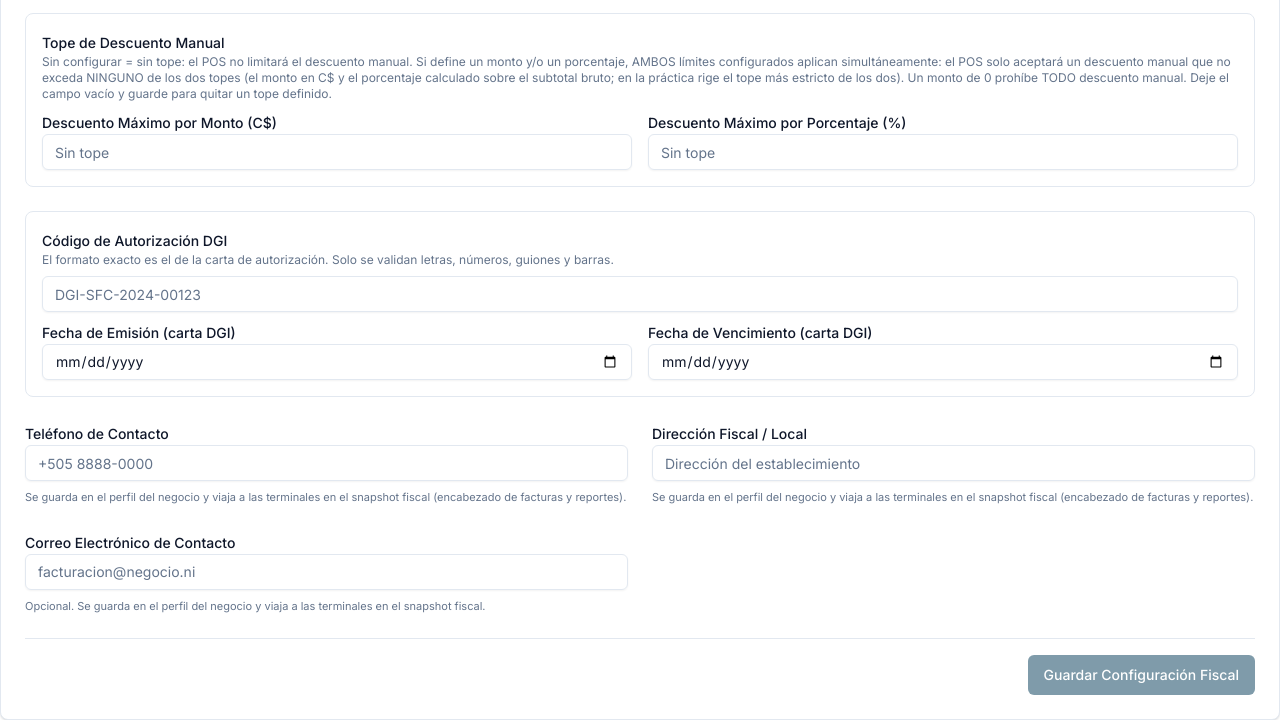
FiscalSetupForm — DGI authorization fields (D-21, #554) › rejects a code with a space at submit
(page scrolled)
Step 1. Type "DGI SFC 2024" into the field labelled "Código de Autorización DGI" → x=640, y=294, box [42,276,1238,312]
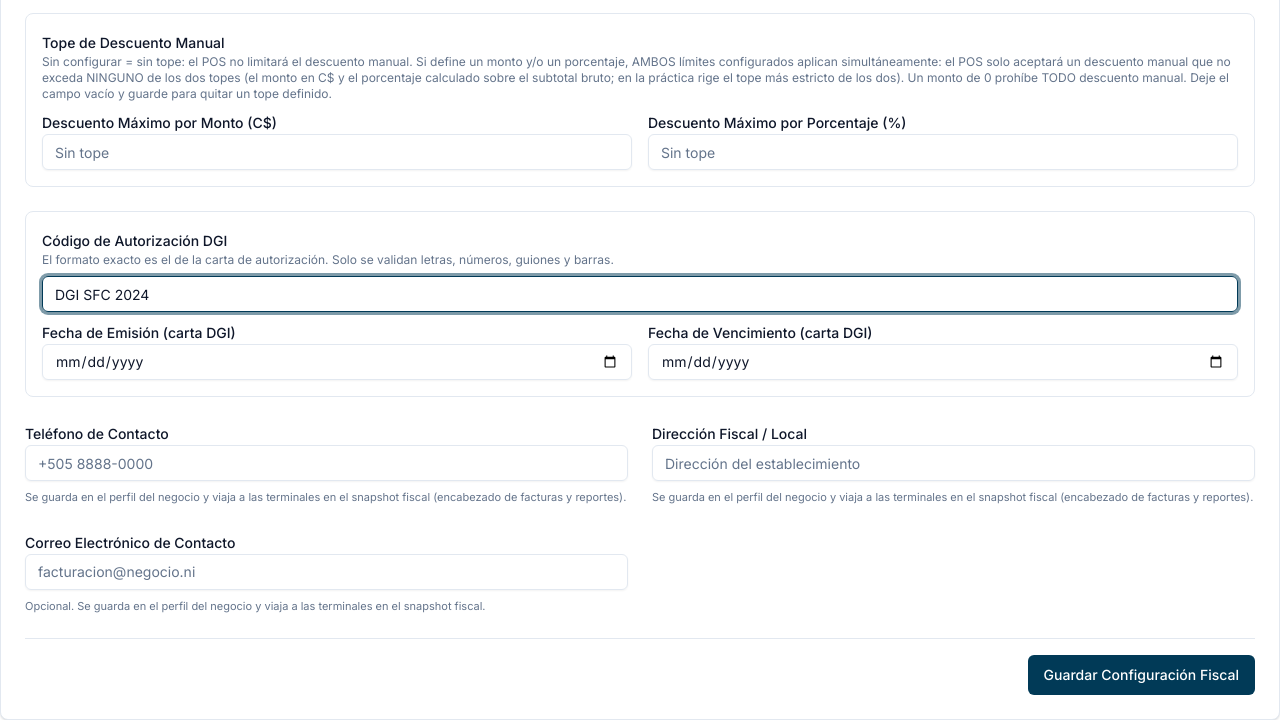
Step 2. Click the button with test id "save-fiscal-setup-button" → x=1141, y=675, box [1028,655,1255,695]
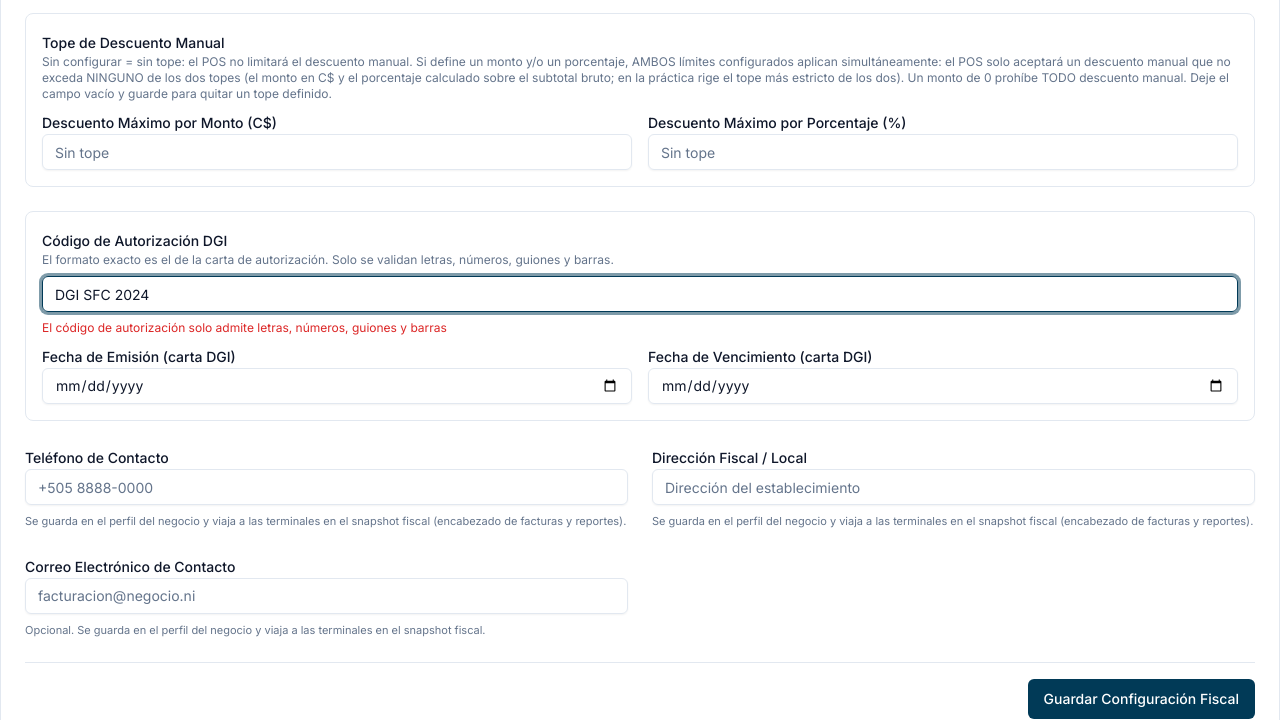
Expected: the text "solo admite letras, números, guiones y barras" is shown, [42,320,447,335]
